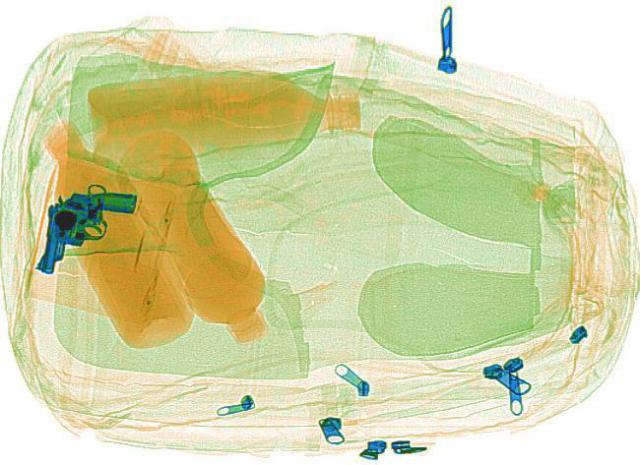Gun: (20, 177, 142, 284)
